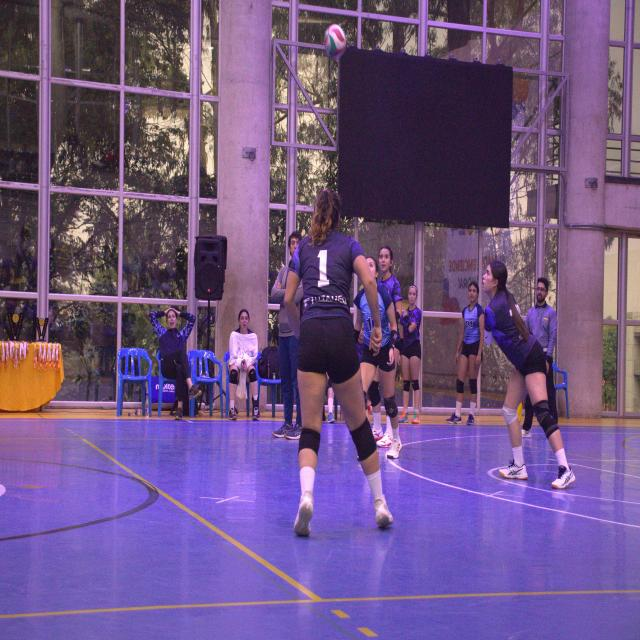volleyball: (325, 24, 346, 60)
